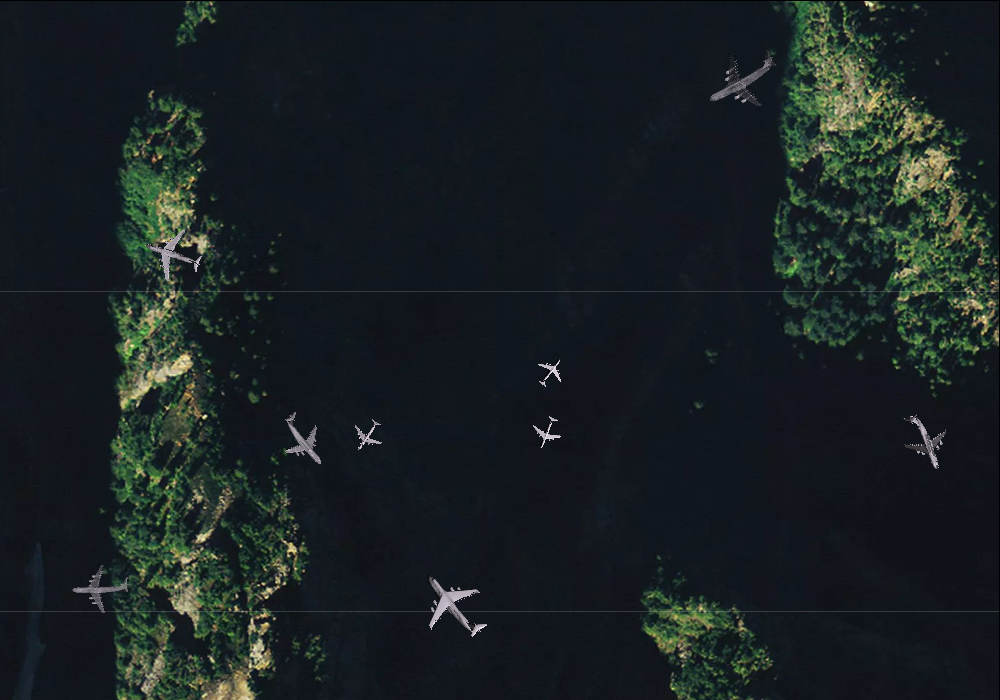plane: (402, 552, 505, 657), (691, 29, 792, 127), (266, 401, 342, 478), (888, 404, 960, 480), (136, 219, 209, 290), (70, 560, 129, 615), (344, 412, 390, 459), (529, 350, 572, 394), (526, 411, 568, 454)
